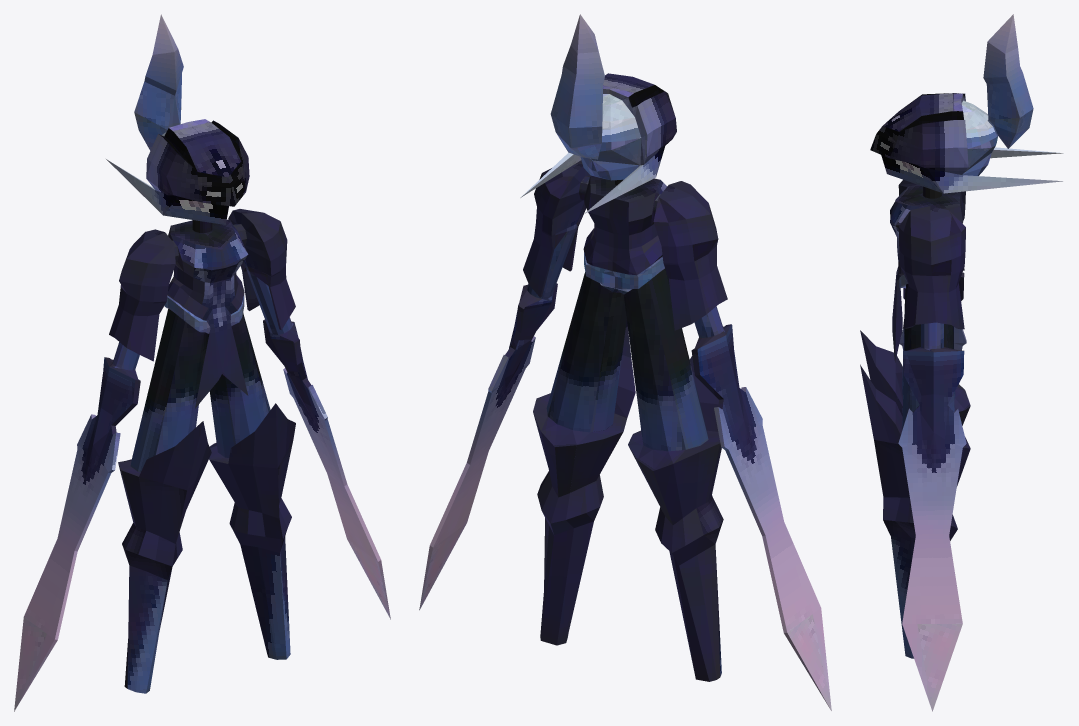
The model's file is regular_937.glb.
The picture shows the model from 3 angles, left to right: view 1: azimuth 30°, elevation 25°; view 2: azimuth 150°, elevation 25°; view 3: azimuth 270°, elevation 25°; orthographic projection. The views are drawn at different scales.
Visible parts, largest first — view 1: Object_5; view 2: Object_5; view 3: Object_5.
Part boxes in pixels (left/top/right/bottom): Object_5: left=14, top=14, right=390, bottom=711; Object_5: left=419, top=14, right=831, bottom=710; Object_5: left=860, top=14, right=1063, bottom=711.
Bounding box in the file's own units: 0.7019 × 1.11 × 0.338.
Materials: 1 (1 with a texture image).
